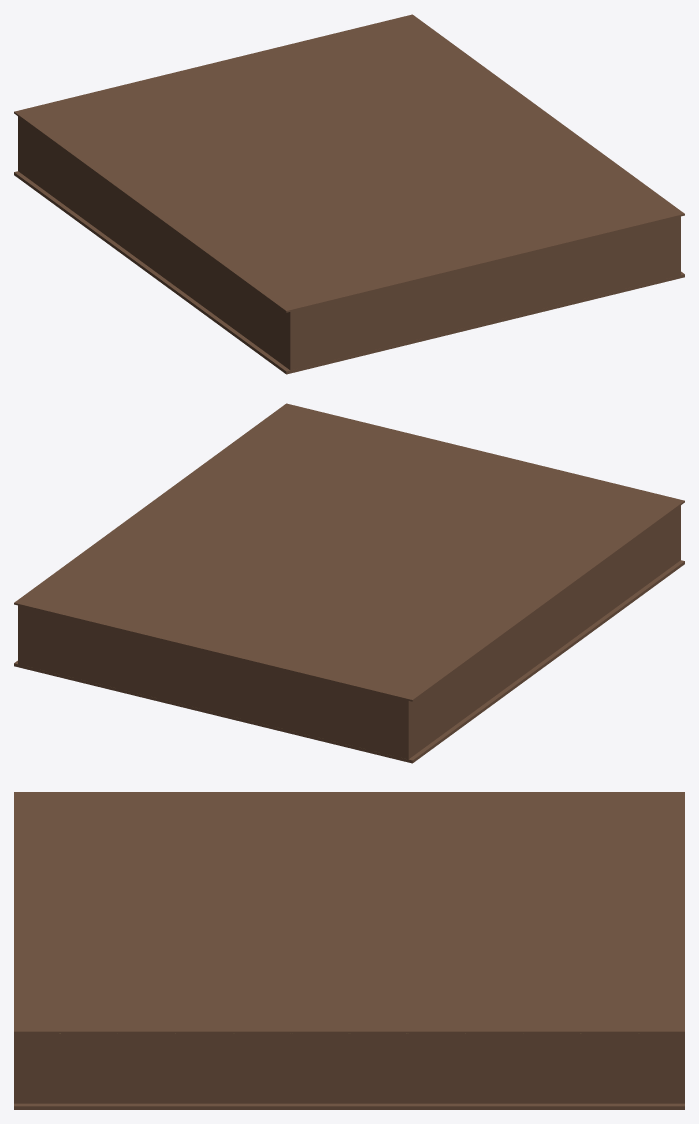
The model's file is culling-theater.glb.
The picture shows the model from 3 angles, top to bottom: view 1: azimuth 30°, elevation 25°; view 2: azimuth 150°, elevation 25°; view 3: azimuth 270°, elevation 25°; orthographic projection. The views are drawn at different scales.
Visible parts, largest first — view 1: Theater walnut.004, theater_end_wall_3.002, theater_wall_1.002; view 2: Theater walnut.004, theater_end_wall_4.002, theater_wall_1.002; view 3: Theater walnut.004, theater_wall_2.002, theater_end_wall_3.002, theater_end_wall_4.002.
Boxes of the visible parts, box(x1,y1,x2,y2) form: Theater walnut.004: box(14, 14, 684, 374); theater_end_wall_3.002: box(285, 216, 680, 370); theater_wall_1.002: box(18, 117, 298, 369); Theater walnut.004: box(14, 403, 684, 763); theater_end_wall_4.002: box(18, 605, 413, 759); theater_wall_1.002: box(400, 505, 680, 758); Theater walnut.004: box(14, 792, 684, 1109); theater_wall_2.002: box(14, 1033, 684, 1103); theater_end_wall_3.002: box(14, 1033, 25, 1103); theater_end_wall_4.002: box(673, 1033, 684, 1103).
Size of the model in its own units: 98 by 14.91 by 116.
